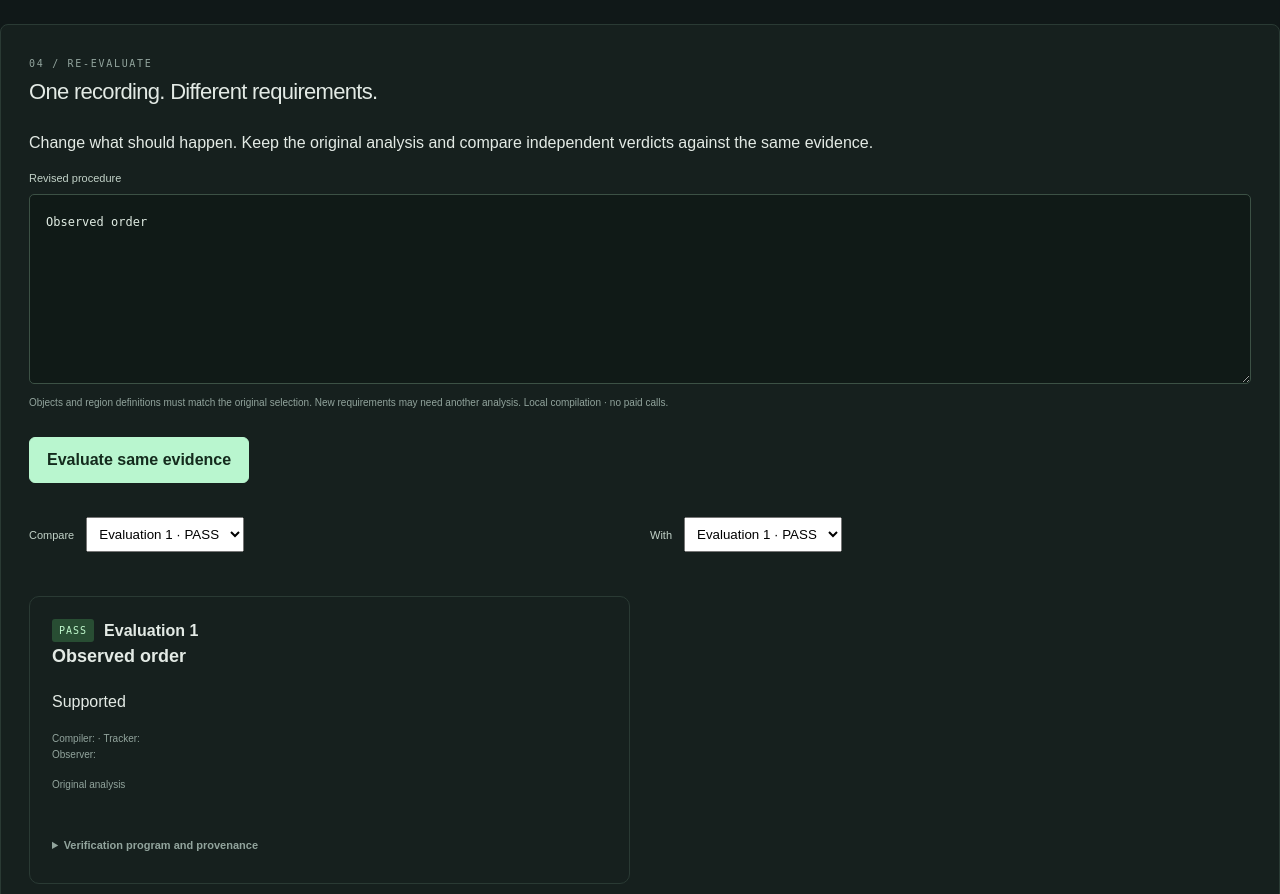
Test: keeps original analysis while adding independent procedure results
Expected: the text "PASS" is shown, [52,619,94,642]
Replace the text in the text box labelled "Revised procedure" with "Reverse order". click: [640, 289]
box: [29,194,1251,384]
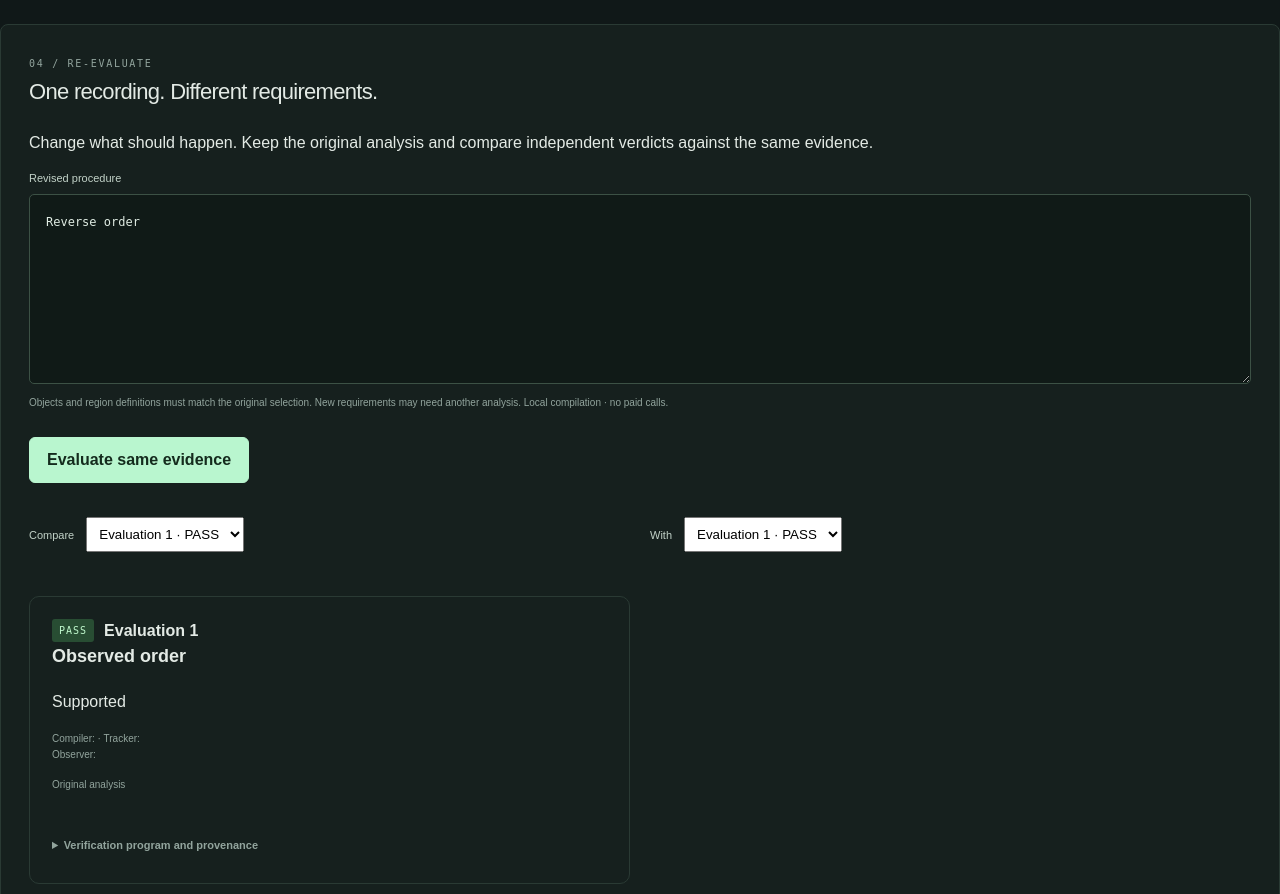
Click the button "Evaluate same evidence". click: [139, 460]
box: [29,437,249,483]
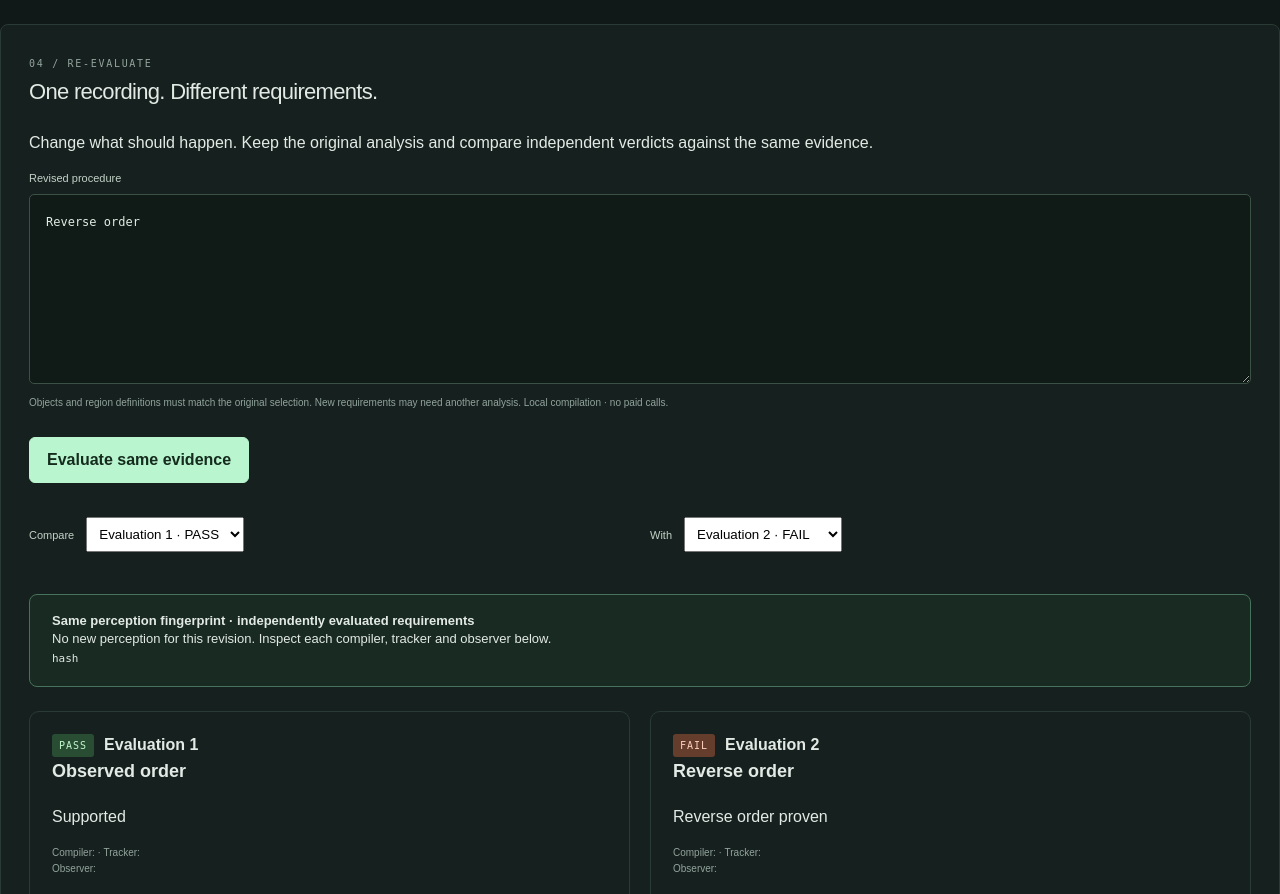
Now the text "FAIL" is shown, box [673,734,715,757]
Now the text "Reverse order proven" is shown, box [673,808,828,825]
Now the element named "Evidence reuse verified" shows "hash", box [52,652,78,665]
